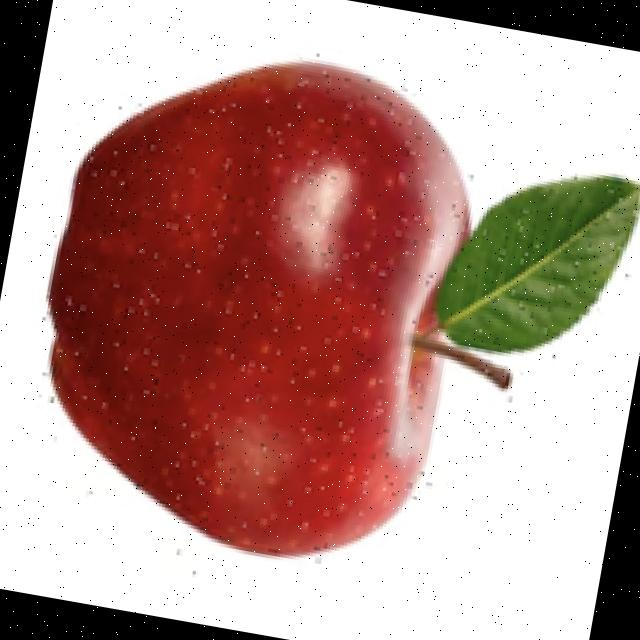apple: (40, 50, 640, 564)
